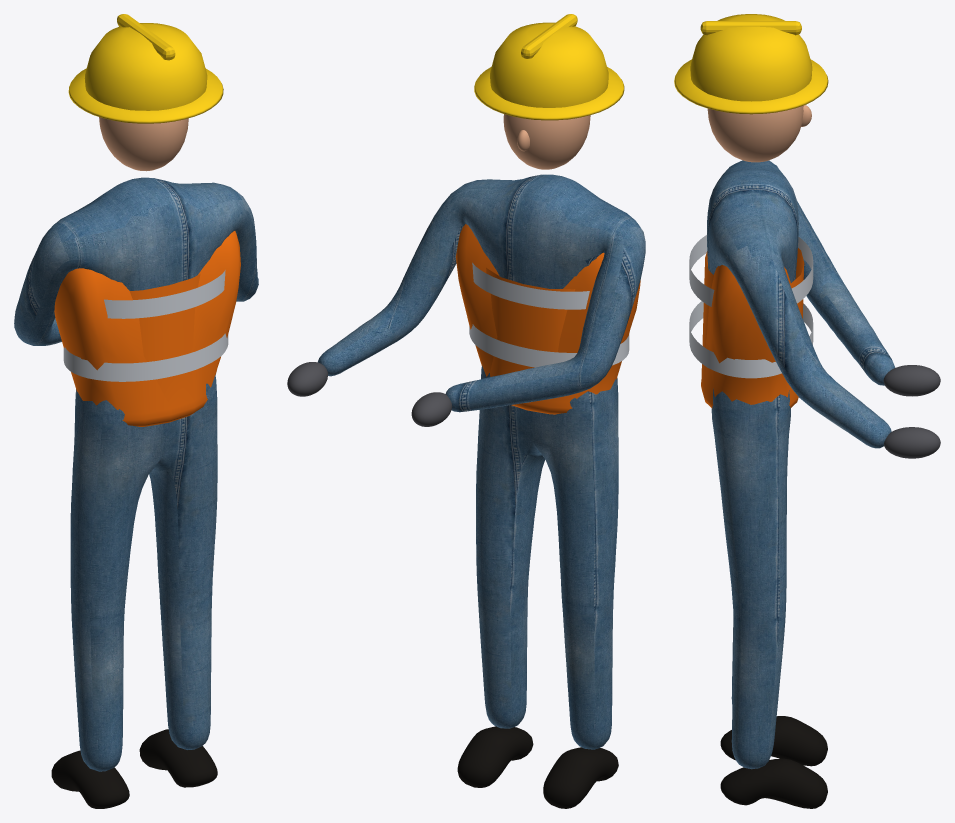
Rendered from trainee.glb.
The picture shows the model from 3 angles, left to right: view 1: azimuth 30°, elevation 25°; view 2: azimuth 150°, elevation 25°; view 3: azimuth 270°, elevation 25°; orthographic projection. The views are drawn at different scales.
Parts seen in each view (by area): view 1: Cuerpo, Chaleco, Casco, Cabeza, Banda_1.12, Ala, Bota_l, Bota_r, Banda_1.27, Cresta; view 2: Cuerpo, Chaleco, Casco, Cabeza, Bota_r, Bota_l, Ala, Banda_1.27, Banda_1.12, Guante_r, Guante_l, Cresta; view 3: Cuerpo, Casco, Chaleco, Bota_r, Cabeza, Ala, Bota_l, Banda_1.12, Guante_l, Guante_r, Banda_1.27, Cresta.
Boxes of the visible parts, x1=… form: Cuerpo: x1=14, y1=177, x2=258, y2=771; Chaleco: x1=54, y1=231, x2=240, y2=426; Casco: x1=84, y1=23, x2=207, y2=110; Cabeza: x1=99, y1=117, x2=188, y2=171; Banda_1.12: x1=63, y1=333, x2=228, y2=381; Ala: x1=68, y1=68, x2=223, y2=123; Bota_l: x1=51, y1=750, x2=129, y2=808; Bota_r: x1=139, y1=729, x2=217, y2=787; Banda_1.27: x1=104, y1=270, x2=225, y2=318; Cresta: x1=117, y1=14, x2=175, y2=60; Cuerpo: x1=318, y1=174, x2=645, y2=749; Chaleco: x1=455, y1=224, x2=640, y2=414; Casco: x1=490, y1=22, x2=608, y2=107; Cabeza: x1=503, y1=114, x2=590, y2=169; Bota_r: x1=457, y1=726, x2=533, y2=787; Bota_l: x1=543, y1=747, x2=618, y2=808; Ala: x1=474, y1=67, x2=624, y2=120; Banda_1.27: x1=472, y1=262, x2=589, y2=309; Banda_1.12: x1=469, y1=324, x2=629, y2=367; Guante_r: x1=287, y1=362, x2=327, y2=396; Guante_l: x1=411, y1=392, x2=452, y2=426; Cresta: x1=521, y1=14, x2=577, y2=58; Cuerpo: x1=707, y1=160, x2=894, y2=769; Casco: x1=690, y1=14, x2=812, y2=101; Chaleco: x1=701, y1=248, x2=804, y2=408; Bota_r: x1=720, y1=758, x2=827, y2=808; Cabeza: x1=707, y1=105, x2=803, y2=162; Ala: x1=674, y1=59, x2=828, y2=114; Bota_l: x1=720, y1=716, x2=827, y2=766; Banda_1.12: x1=689, y1=301, x2=813, y2=378; Guante_l: x1=883, y1=365, x2=940, y2=396; Guante_r: x1=884, y1=427, x2=940, y2=458; Banda_1.27: x1=689, y1=235, x2=813, y2=306; Cresta: x1=700, y1=21, x2=801, y2=35.
Bounding box in the file's own units: 0.7135 × 1.83 × 0.5805.
7 materials, 1 textured.
